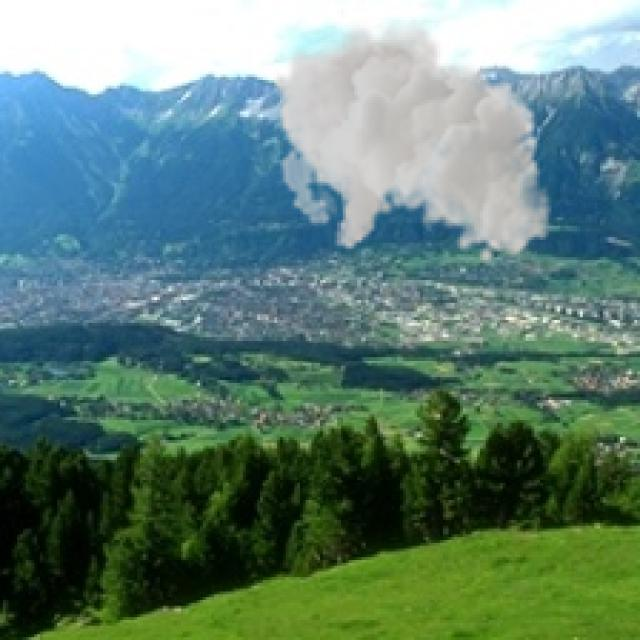smoke: (272, 14, 552, 266)
